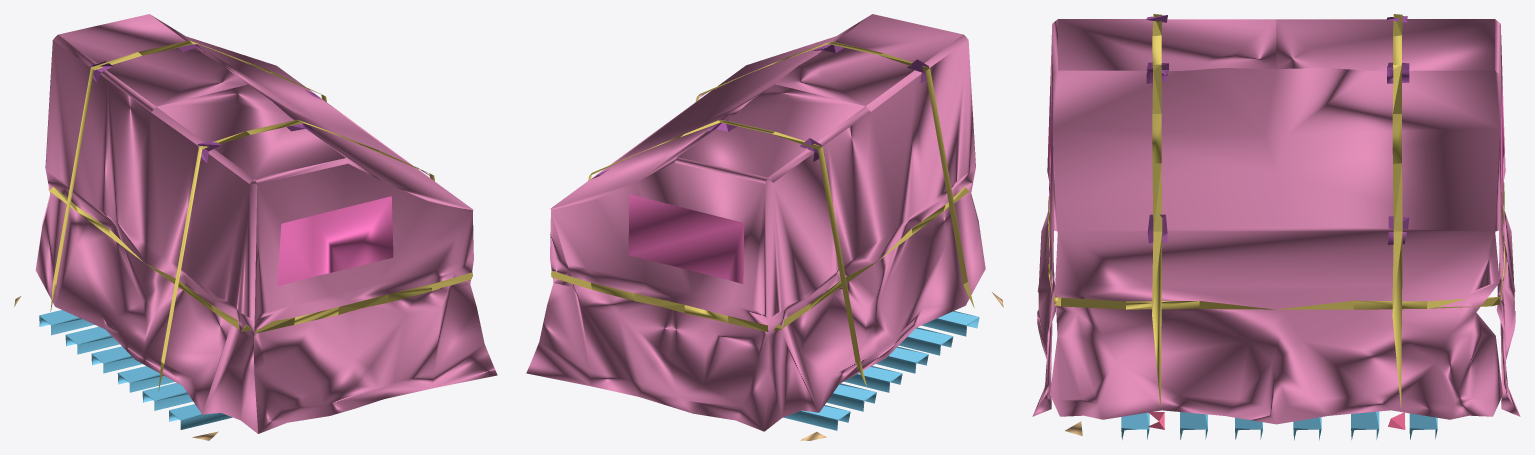
The model's file is prop_crate_dumper_tarp_c_lod4.glb.
The picture shows the model from 3 angles, left to right: view 1: azimuth 30°, elevation 25°; view 2: azimuth 150°, elevation 25°; view 3: azimuth 270°, elevation 25°; orthographic projection. The views are drawn at different scales.
Bounding box in the file's own units: 3.1 × 2.55 × 3.81.
